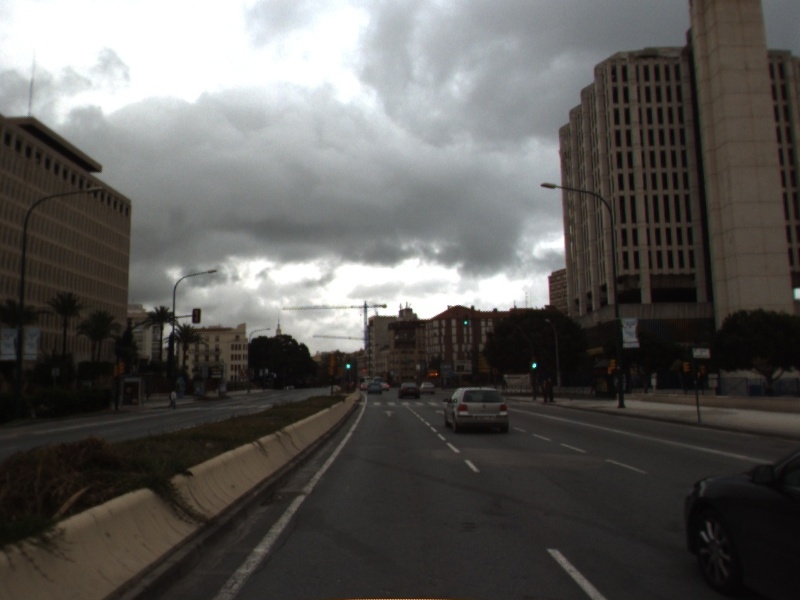STRAIGHT: (380, 407, 398, 419), (432, 407, 446, 416)
